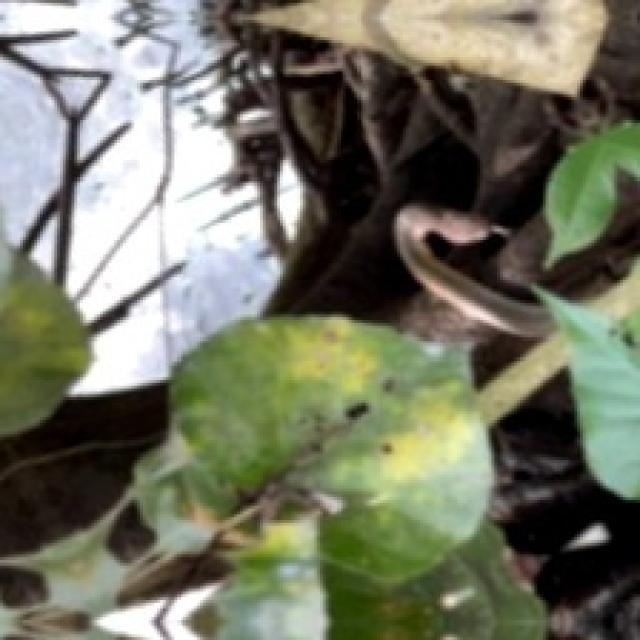king cobra: (394, 204, 554, 337)
